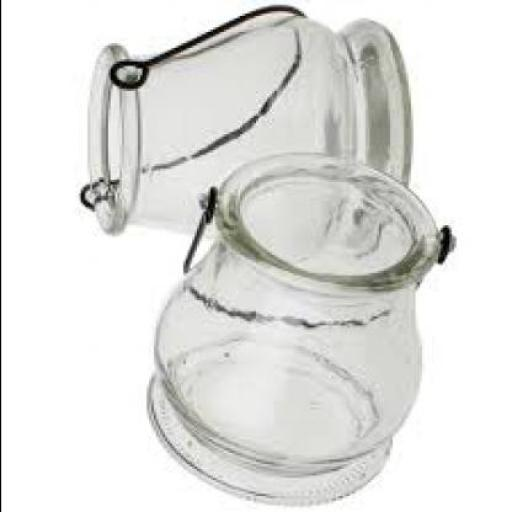glass: (143, 151, 439, 500), (82, 14, 409, 238)
